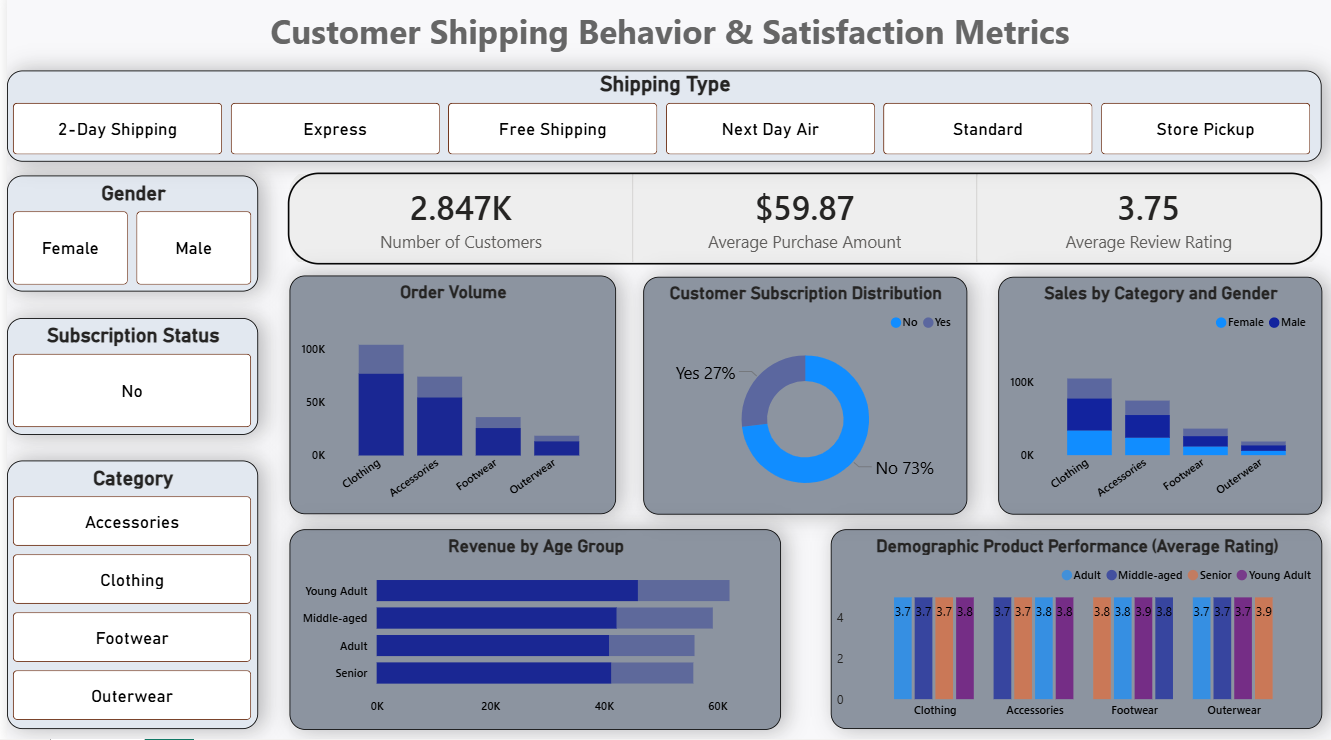

This screenshot's page, from the dashboard's own definition file:
{"tool":"tableau","page":{"name":"99_Dashboard_Final","canvas":[1200,700],"ordinal":0},"visuals":[{"type":"title","box":[8,8,1184,72]},{"type":"worksheet","title":"Filter_Shipping","mark":"Shape","rows":["shipping_type"],"box":[991,29,199,150]},{"type":"worksheet","title":"KPI CARDS","mark":"Automatic","box":[9,84,978,81]},{"type":"worksheet","title":"02_Revenue_Waterfall","mark":"Bar","rows":["Calculation_0915355951206409"],"cols":["Calculation_0915355884511235"],"box":[427,163,541,248]},{"type":"worksheet","title":"03_SEGMENTATION FLOW","mark":"Automatic","rows":["Calculation_0915355951206409"],"cols":["subscription_status"],"box":[0,164,446,275]},{"type":"worksheet","title":"Filter_Gender","mark":"Shape","rows":["gender"],"box":[992,195,200,150]},{"type":"worksheet","title":"Filter_Subscription","mark":"Shape","rows":["subscription_status"],"box":[992,360,200,150]},{"type":"worksheet","title":"04_SHIPPING IMPACT ANALYSIS ","mark":"Automatic","rows":["shipping_type"],"cols":["purchase_amount"],"box":[592,410,397,283]},{"type":"worksheet","title":"Filter_Category","mark":"Shape","rows":["category"],"box":[991,523,200,168]}]}

Visuals, with their boxes on the page's 1200x700 design canvas (x1, y1, x2, y2). These are canvas units, not pixel positions in the 1331x740 screenshot, which may show the page scaled, cropped or inside an application window:
title: (x1=8, y1=8, x2=1192, y2=80)
"Filter_Shipping" worksheet (Shape marks): (x1=991, y1=29, x2=1190, y2=179)
"KPI CARDS" worksheet: (x1=9, y1=84, x2=987, y2=165)
"02_Revenue_Waterfall" worksheet (Bar marks): (x1=427, y1=163, x2=968, y2=411)
"03_SEGMENTATION FLOW" worksheet: (x1=0, y1=164, x2=446, y2=439)
"Filter_Gender" worksheet (Shape marks): (x1=992, y1=195, x2=1192, y2=345)
"Filter_Subscription" worksheet (Shape marks): (x1=992, y1=360, x2=1192, y2=510)
"04_SHIPPING IMPACT ANALYSIS " worksheet: (x1=592, y1=410, x2=989, y2=693)
"Filter_Category" worksheet (Shape marks): (x1=991, y1=523, x2=1191, y2=691)
